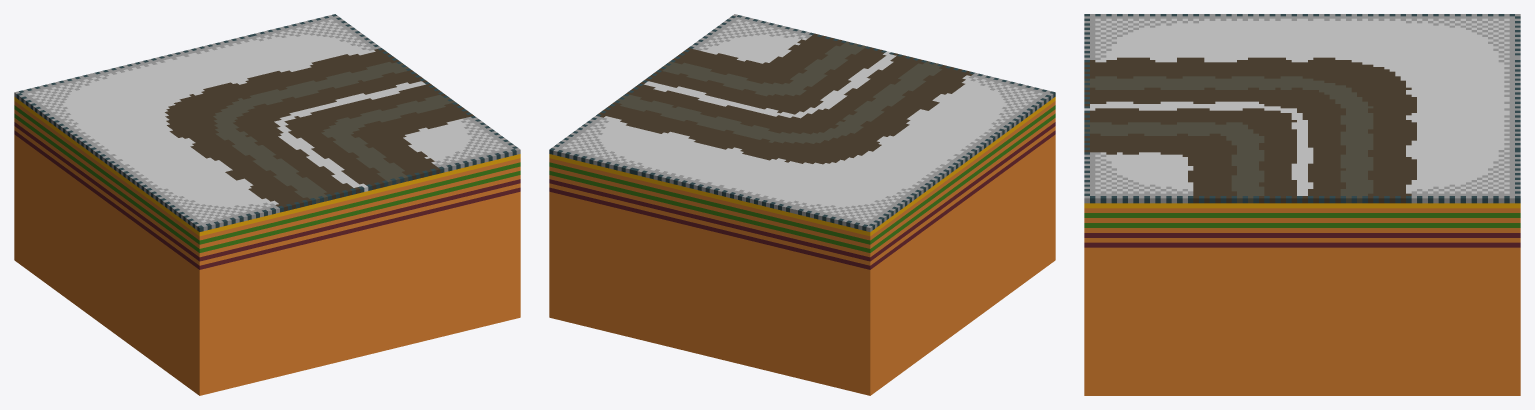
The model's file is snow_dirt_road_2_tile.obj.
3 views of the same model, side by side, from view 1: azimuth 30°, elevation 25°; view 2: azimuth 150°, elevation 25°; view 3: azimuth 270°, elevation 25° (orthographic). The views are drawn at different scales.
Bounding box in the file's own units: 8 × 4 × 8.
Materials: 1 (1 with a texture image).
